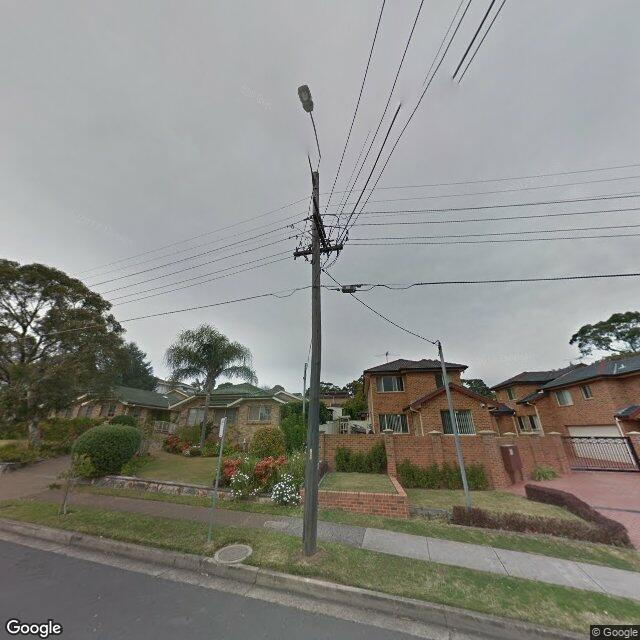crossarm: (311, 212, 331, 256), (293, 244, 344, 257)
steel-pole: (438, 340, 471, 506)
streetlight: (298, 83, 320, 192)
timber-pole: (301, 171, 323, 554)
